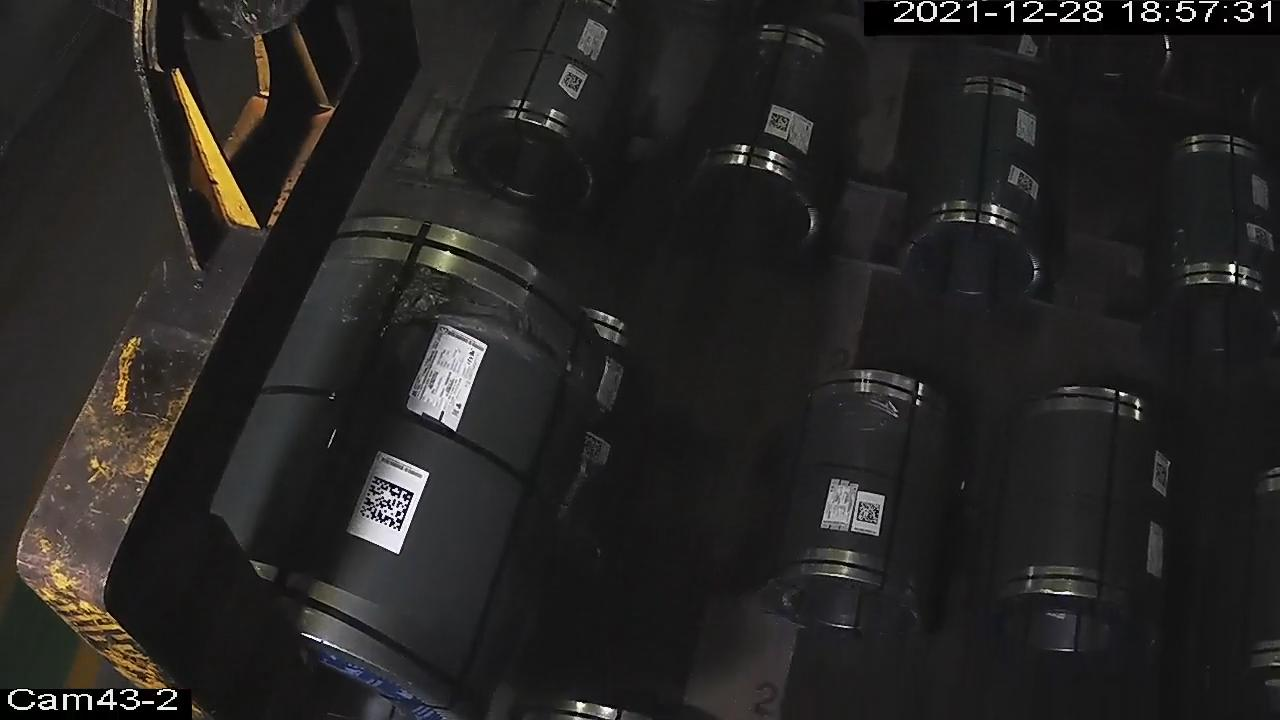data matrix: (355, 472, 417, 536), (856, 500, 884, 526), (560, 71, 585, 95), (1015, 169, 1037, 196), (1152, 462, 1172, 491), (768, 112, 793, 135)
